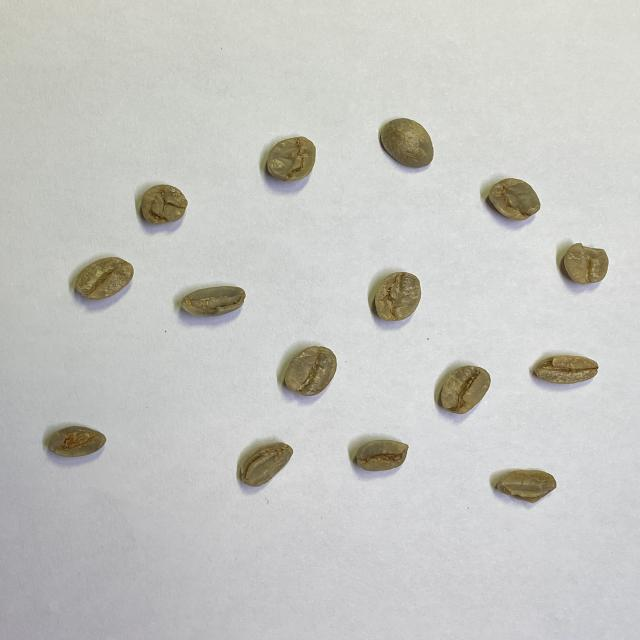bad: (374, 270, 424, 325), (263, 136, 318, 184), (239, 441, 294, 488), (488, 177, 542, 222), (495, 467, 558, 505), (178, 285, 246, 318), (139, 183, 189, 227), (47, 424, 109, 459), (562, 241, 610, 285), (533, 354, 599, 385), (356, 439, 410, 473)
good: (379, 117, 436, 170), (283, 344, 338, 396), (439, 364, 492, 415), (74, 256, 135, 300)
